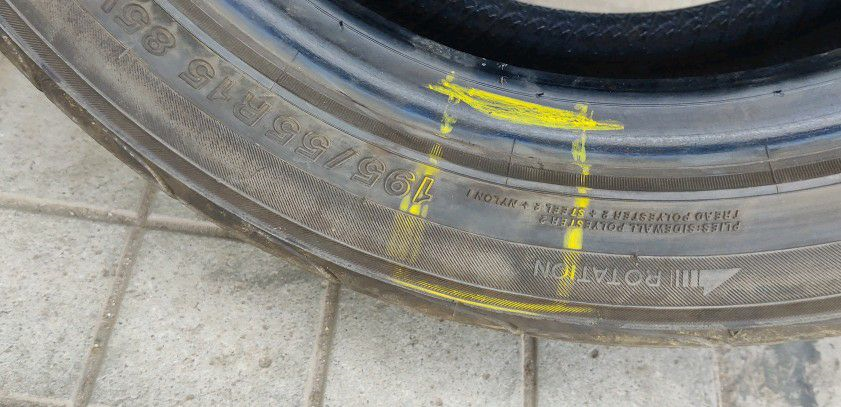bead_damage: (463, 52, 522, 96)
